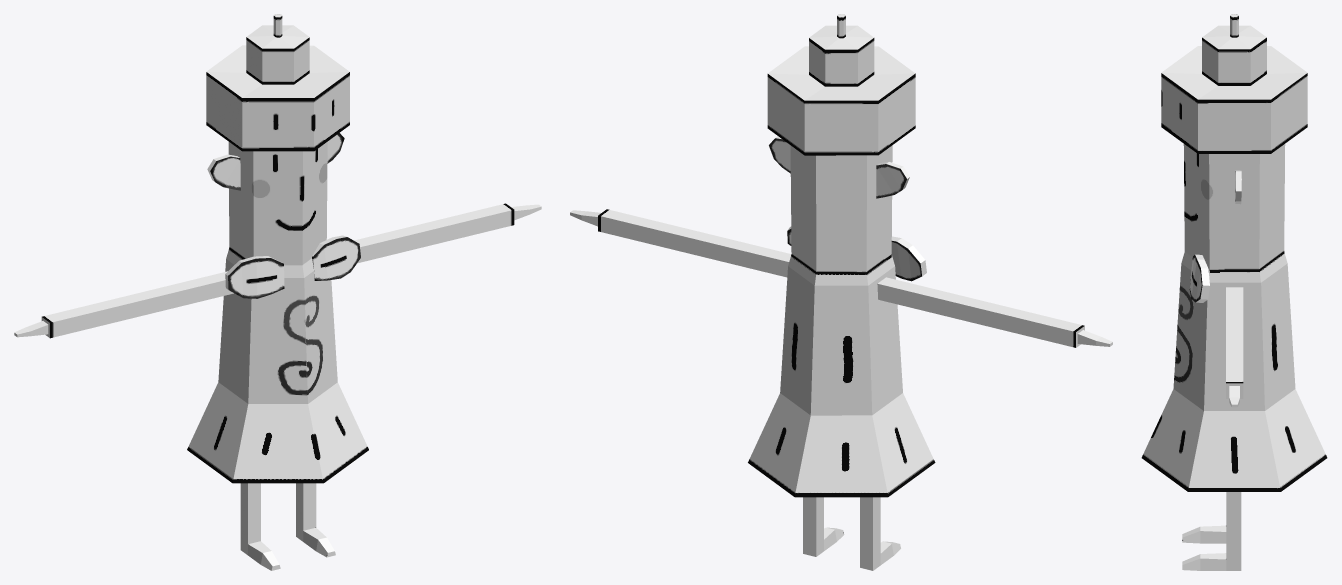
File: ziziAFR01.glb
3 views of the same model, side by side, from view 1: azimuth 30°, elevation 25°; view 2: azimuth 150°, elevation 25°; view 3: azimuth 270°, elevation 25° (orthographic). The views are drawn at different scales.
Visible parts, largest first — view 1: 円柱.004; view 2: 円柱.004; view 3: 円柱.004.
Part boxes in pixels (<box>): 円柱.004: <box>14,14,541,570</box>; 円柱.004: <box>570,14,1112,570</box>; 円柱.004: <box>1141,14,1327,570</box>.
Bounding box in the file's own units: 1.12 × 1.08 × 0.3389.
Materials: 2 (2 with a texture image).
